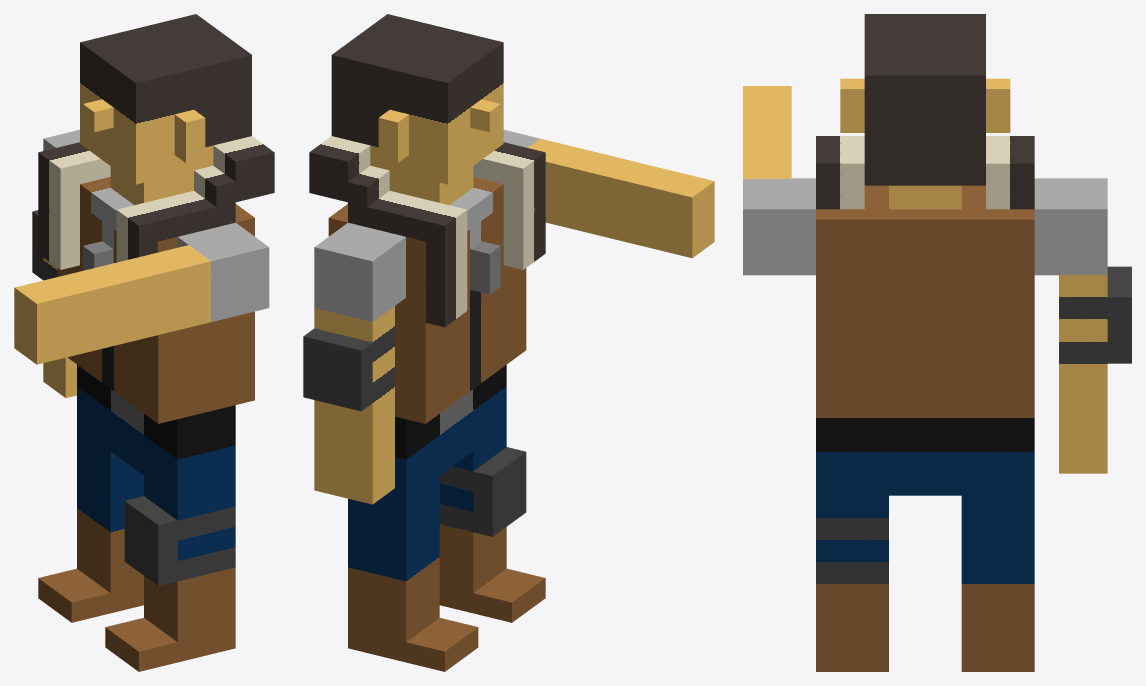
File: woman_02_handgun.fbx
3 renders of one model, left to right at view 1: azimuth 30°, elevation 25°; view 2: azimuth 150°, elevation 25°; view 3: azimuth 270°, elevation 25°, orthographic. The views are drawn at different scales.
Parts seen in each view (by area): view 1: woman_02_handgun.woman_handgun_02; view 2: woman_02_handgun.woman_handgun_02; view 3: woman_02_handgun.woman_handgun_02.
Part boxes in pixels (box(x1,y1,x2,y2)): woman_02_handgun.woman_handgun_02: box(14, 14, 274, 671); woman_02_handgun.woman_handgun_02: box(303, 14, 714, 671); woman_02_handgun.woman_handgun_02: box(743, 14, 1131, 671).
Bounding box in the file's own units: 1.4 × 2.8 × 1.6.
Materials: 1 (1 with a texture image).
